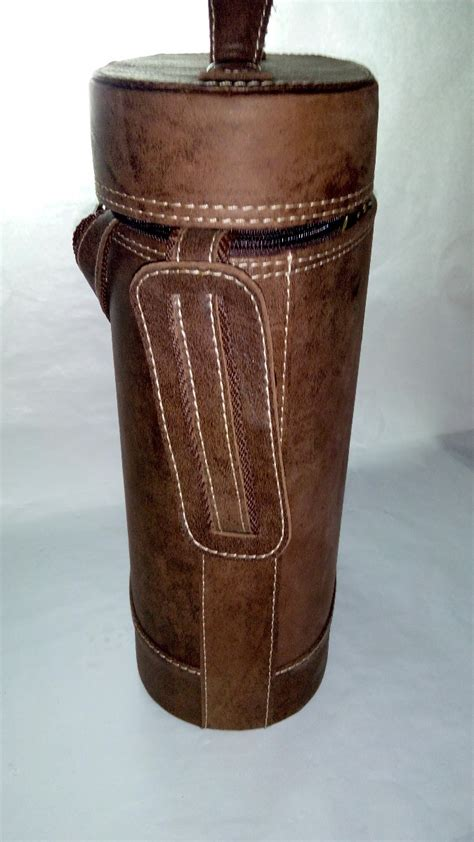cuero: (74, 3, 377, 735)
